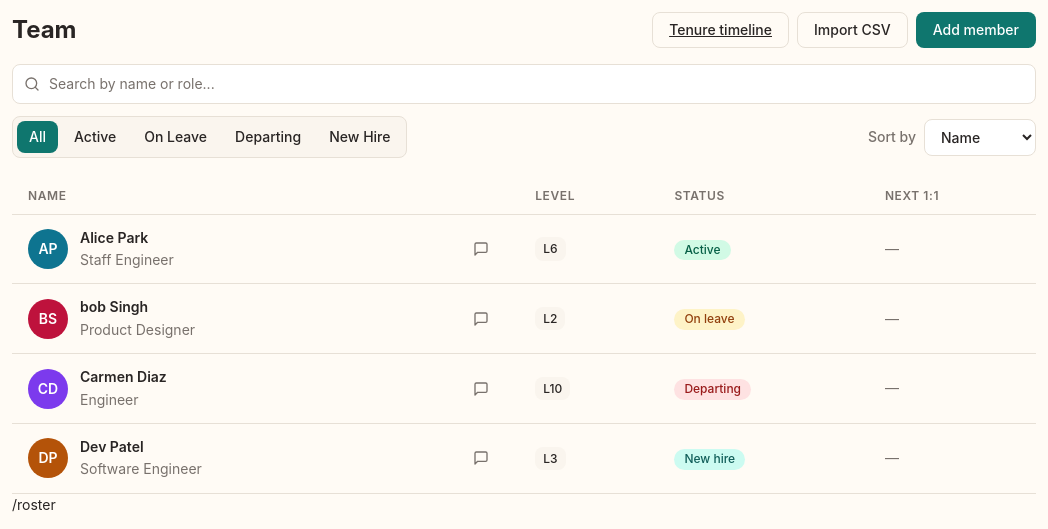
Test case: Roster › status filter combines with search
Click the radio button labelled "Active": (95, 137) [62,121,128,153]
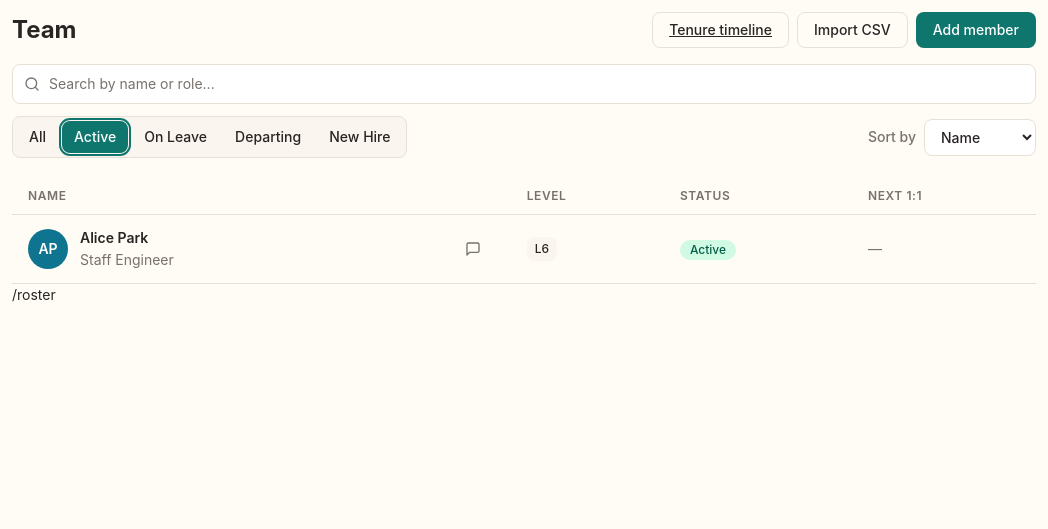
In the search field: (524, 84) [12,64,1036,104], type "designer"
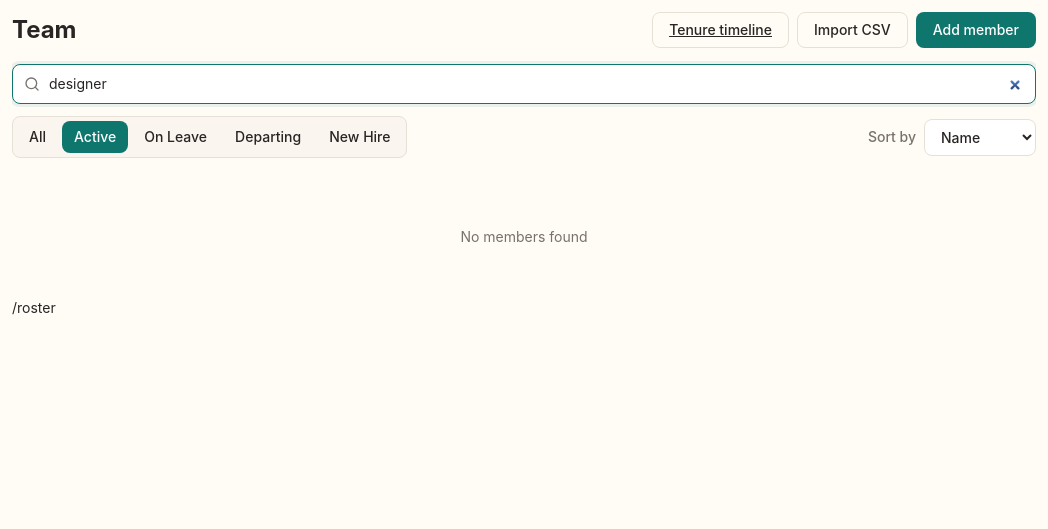
expect the text "No members found" is shown: met, box [460,228,588,245]
